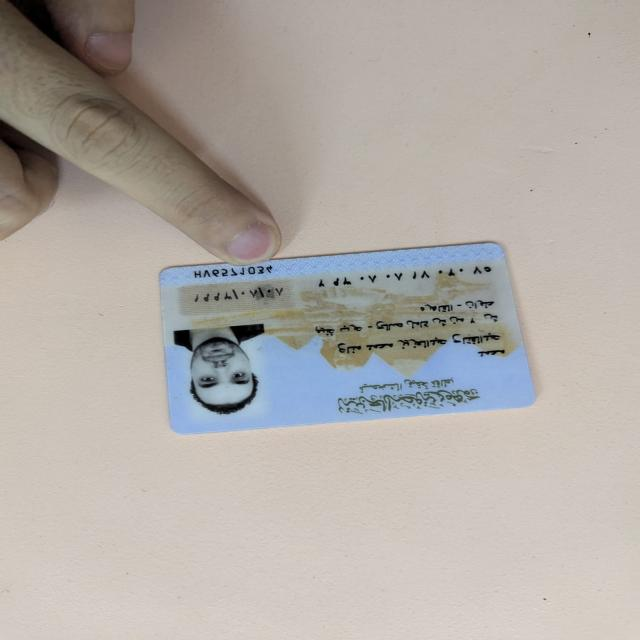id_card: (148, 229, 550, 439)
